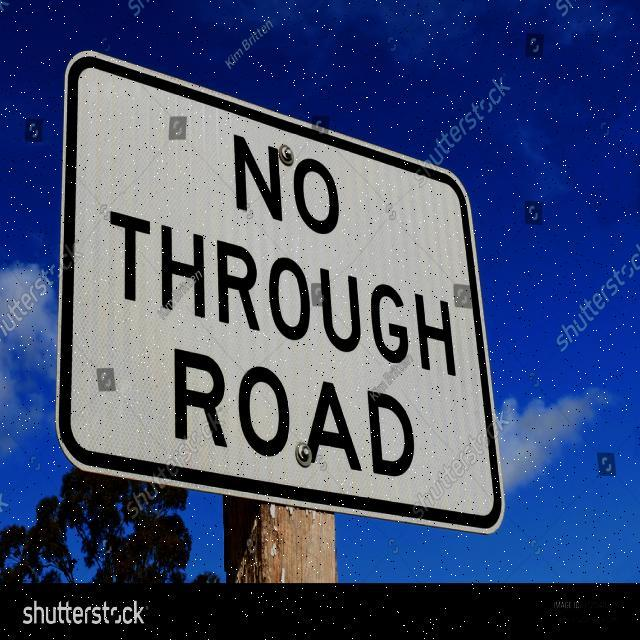Traffic sign: (55, 44, 510, 542)
